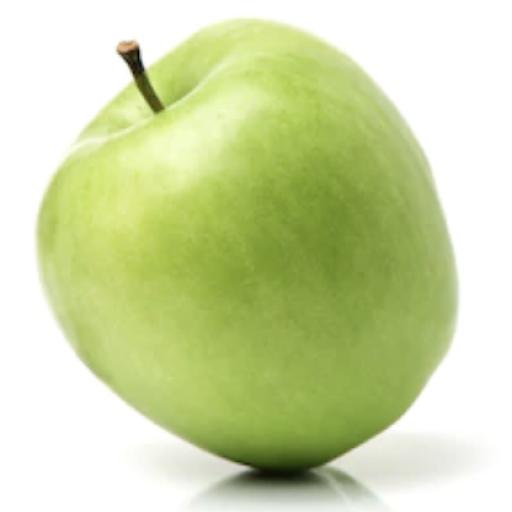apple: (39, 21, 456, 471)
